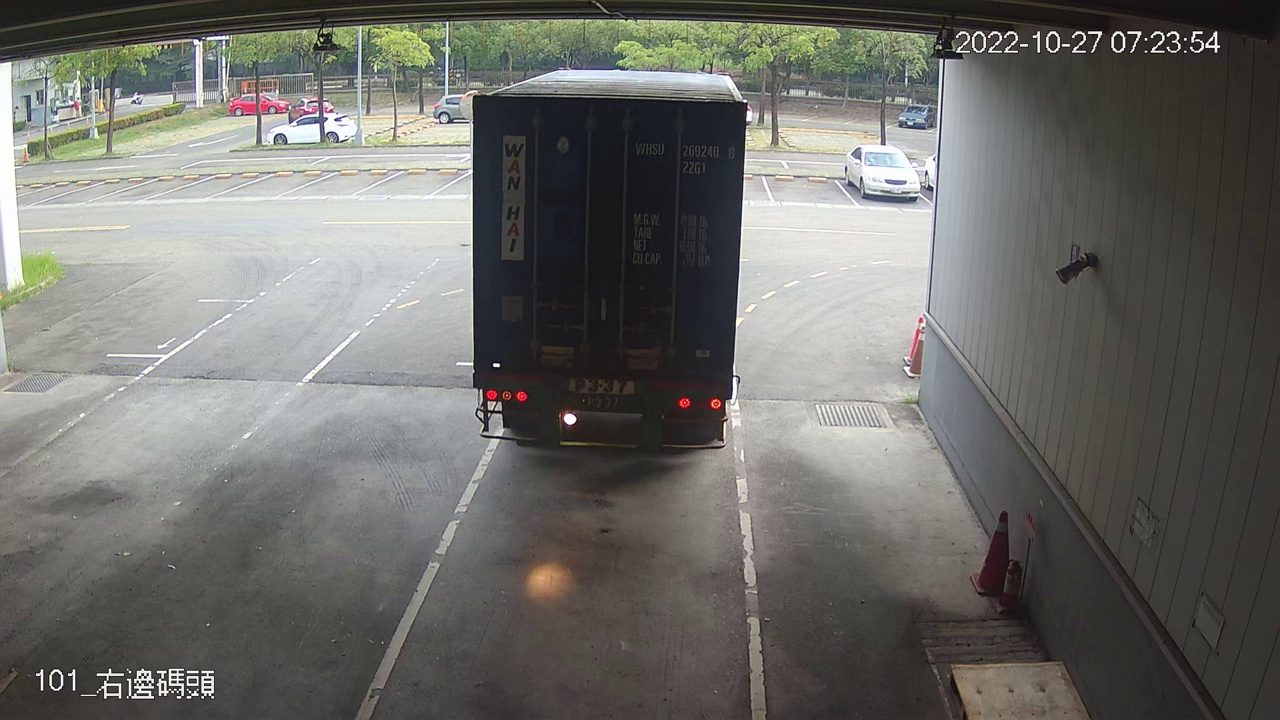container: (630, 134, 740, 182)
